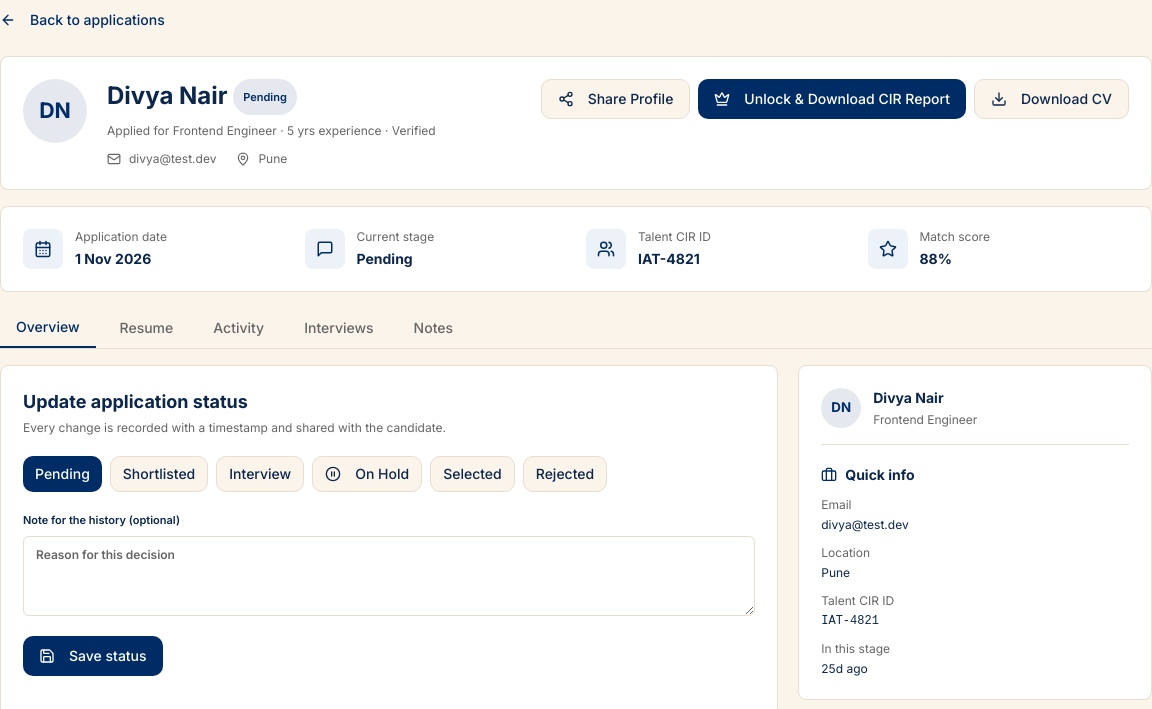
Applicant detail and CIR report access › opens the payment flow instead of the report when CIR access is not unlocked
Click the button with aria-label "Unlock and download CIR report" at [832, 99], box [698, 79, 966, 119]
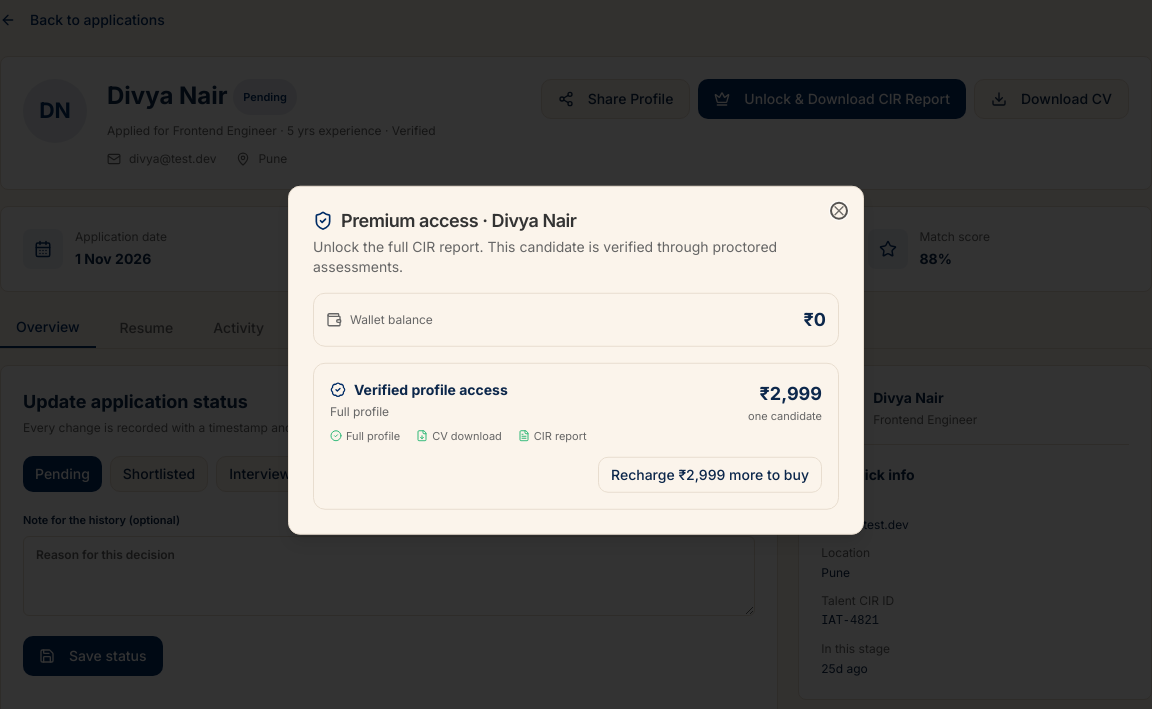
Result: the heading "Premium access · Divya Nair" is shown at [313, 210, 576, 231]
Result: the button "Recharge ₹2,999 more to buy" is shown at [598, 456, 822, 492]
